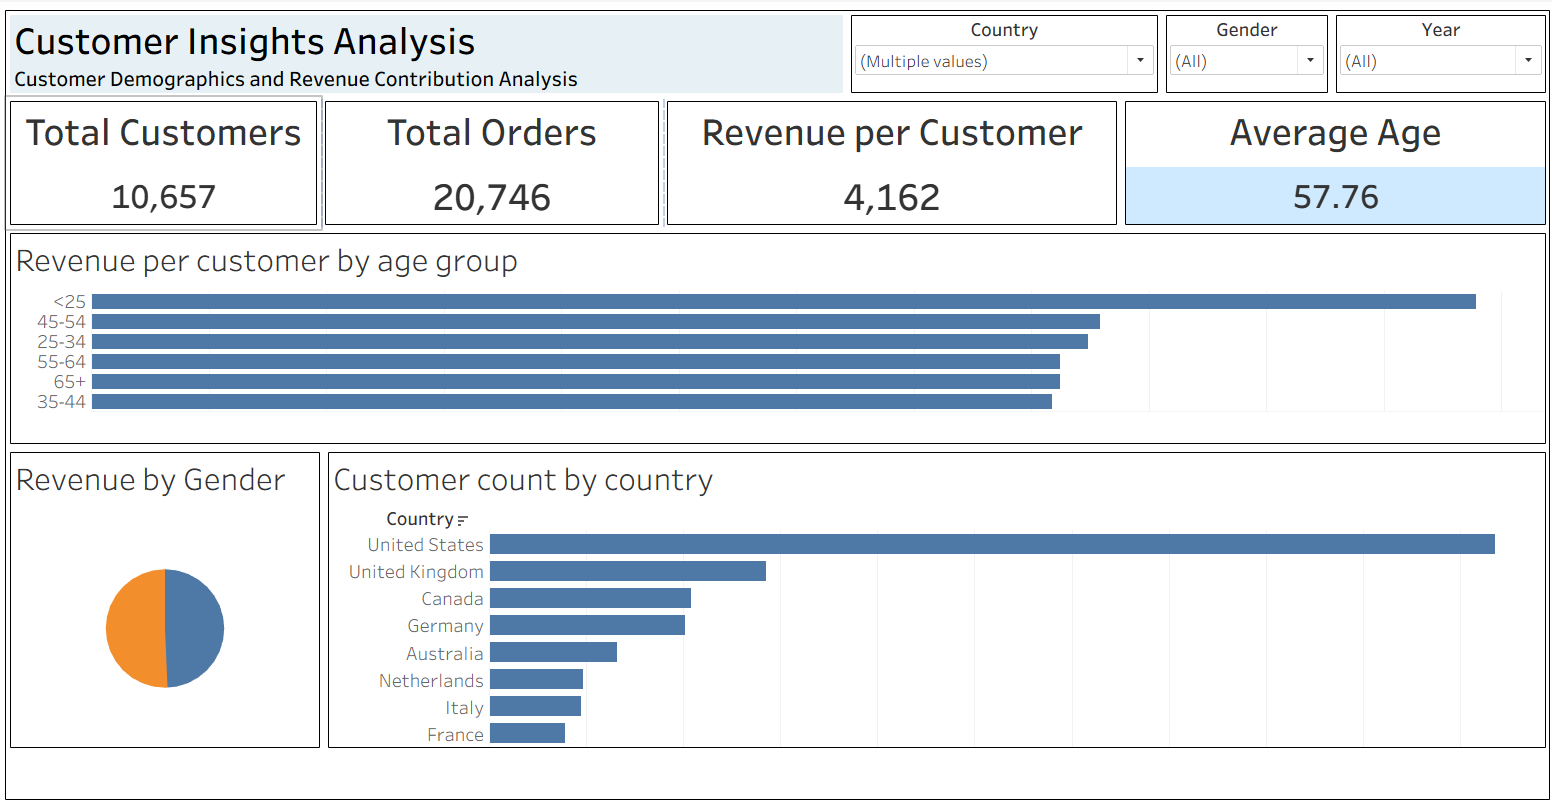

What the dashboard file says about the page in this screenshot:
{"tool":"tableau","page":{"name":"Dashbaord3","canvas":[1562,806],"ordinal":2},"visuals":[{"type":"text","box":[9,9,841,86]},{"type":"filter","title":"Revenue per customer by age group ","param":"[federated.02thb3i1gr9s941ego1r00bs9llb].[none:Country:nk]","box":[850,9,315,86]},{"type":"filter","title":"Revenue by Gender","param":"[federated.02thb3i1gr9s941ego1r00bs9llb].[none:Gender:nk]","box":[1165,9,170,86]},{"type":"filter","title":"Customer count by country","param":"[federated.02thb3i1gr9s941ego1r00bs9llb].[yr:Order Date:ok]","box":[1335,9,218,86]},{"type":"worksheet","title":"Total Customers","mark":"Automatic","box":[9,95,315,132]},{"type":"worksheet","title":"KPI - Total Orders","mark":"Automatic","box":[324,95,342,132]},{"type":"worksheet","title":"Revenue per cusgomer -kpi","mark":"Automatic","box":[666,95,457.6,132]},{"type":"worksheet","title":"kpi - Average customer Age","mark":"Automatic","box":[1123.5,95,429.5,132]},{"type":"worksheet","title":"Revenue per customer by age group ","mark":"Automatic","rows":["Calculation_1236136367587335"],"cols":["Calculation_1339765533847552"],"box":[9,227,1544,219]},{"type":"worksheet","title":"Revenue by Gender","mark":"Pie","box":[9,446,318,304]},{"type":"worksheet","title":"Customer count by country","mark":"Automatic","rows":["Country"],"cols":["CustomerKey (Customers.csv)"],"box":[327,446,1226,304]}]}

Visuals, with their boxes in screenshot pixels (x1, y1, x2, y2), scaled from the page's 1562x806 canvas onto the 1552x802 screenshot:
text: 9, 9, 845, 95
"Revenue per customer by age group " filter: 845, 9, 1158, 95
"Revenue by Gender" filter: 1158, 9, 1326, 95
"Customer count by country" filter: 1326, 9, 1543, 95
"Total Customers" worksheet: 9, 95, 322, 226
"KPI - Total Orders" worksheet: 322, 95, 662, 226
"Revenue per cusgomer -kpi" worksheet: 662, 95, 1116, 226
"kpi - Average customer Age" worksheet: 1116, 95, 1543, 226
"Revenue per customer by age group " worksheet: 9, 226, 1543, 444
"Revenue by Gender" worksheet (Pie marks): 9, 444, 325, 746
"Customer count by country" worksheet: 325, 444, 1543, 746
